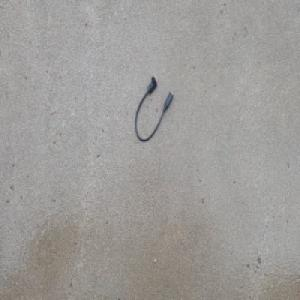Wire: (134, 74, 174, 143)
